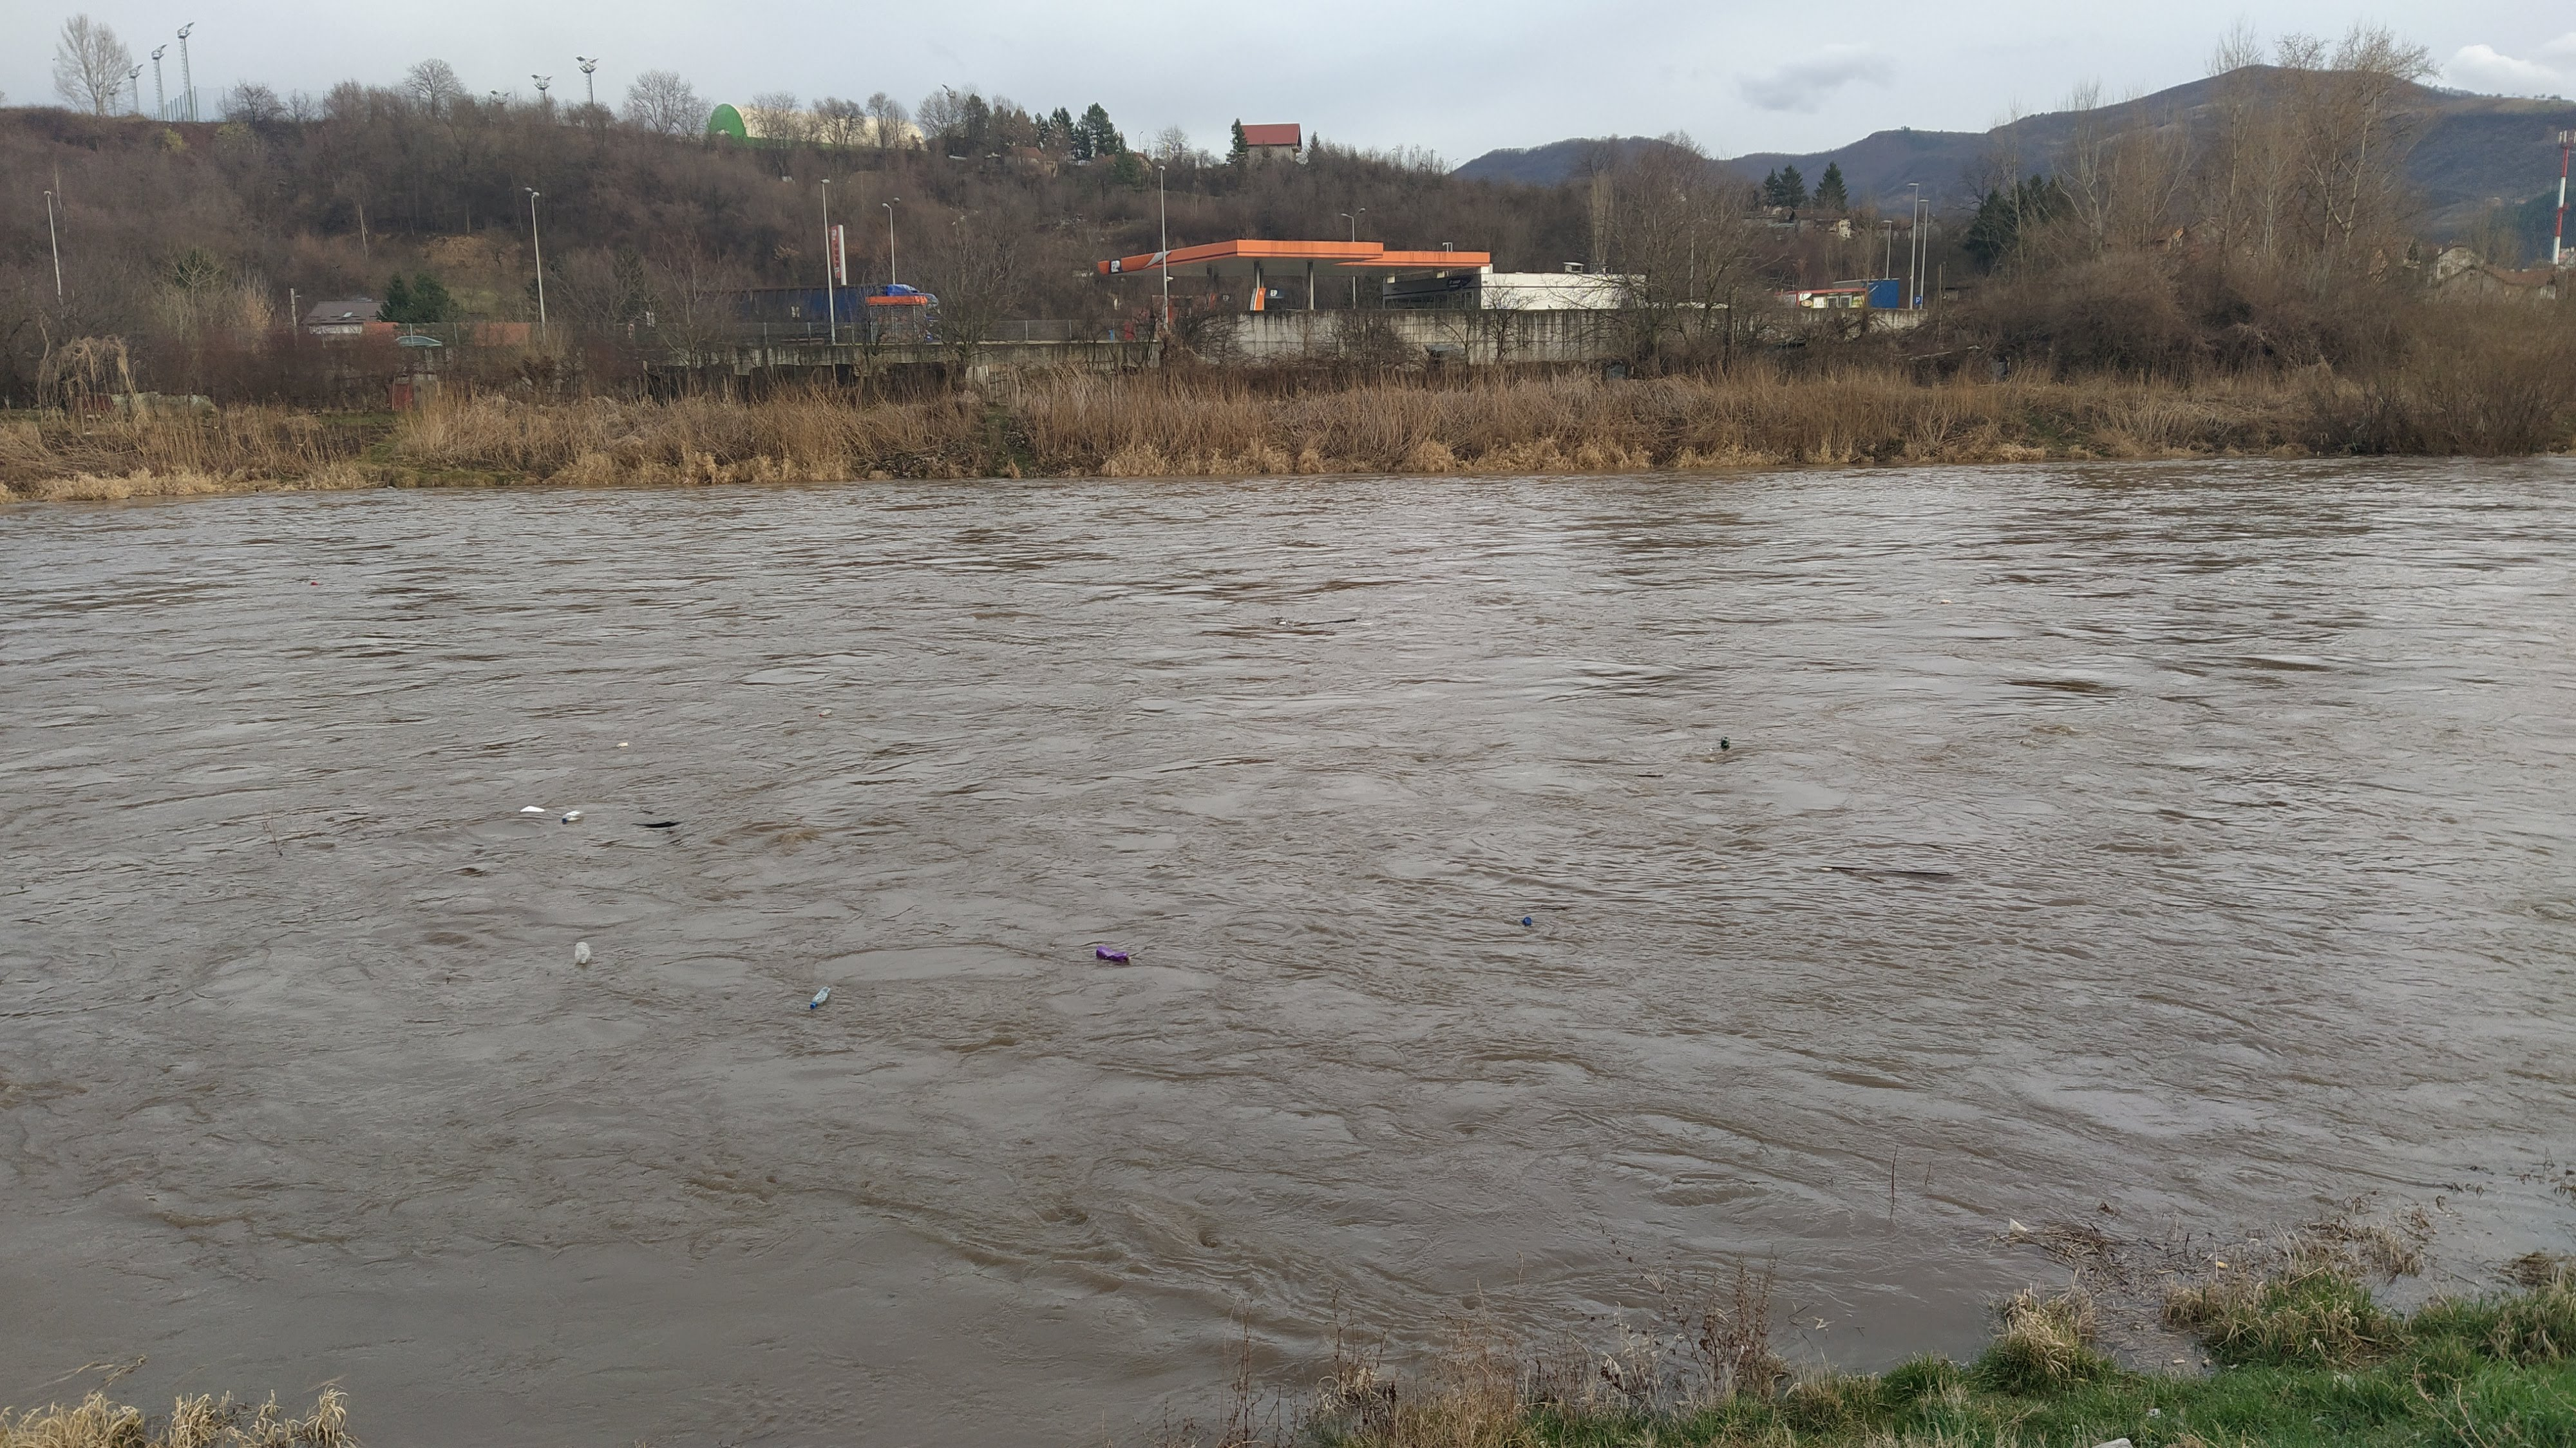Plastic Bottle: (1097, 944, 1132, 963), (810, 986, 832, 1007), (2008, 1218, 2028, 1237), (575, 942, 591, 963), (563, 811, 582, 823), (1522, 915, 1532, 926), (1721, 735, 1730, 747), (819, 708, 832, 717), (311, 582, 317, 584)
